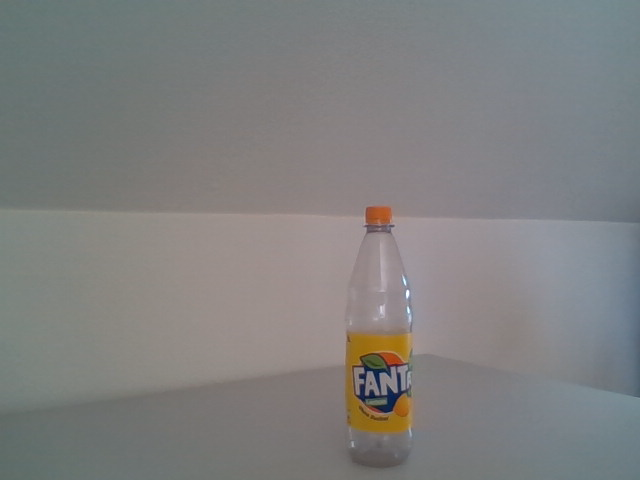bottle: (344, 206, 415, 470)
